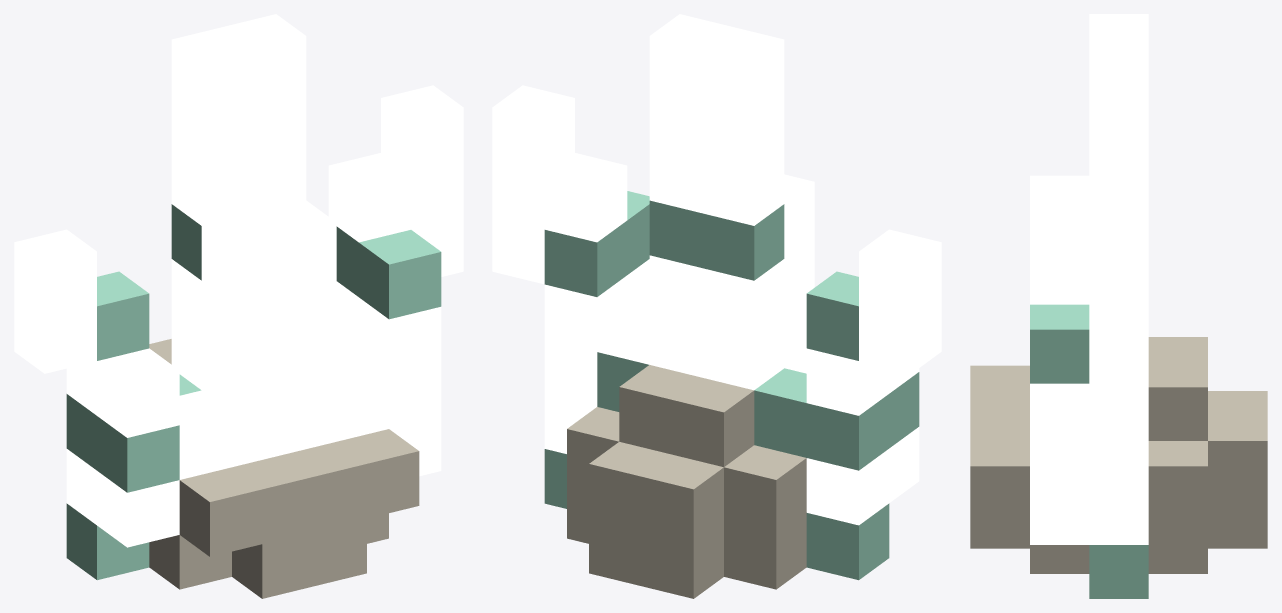
The model's file is saltglass_lod1.glb.
The picture shows the model from 3 angles, left to right: view 1: azimuth 30°, elevation 25°; view 2: azimuth 150°, elevation 25°; view 3: azimuth 270°, elevation 25°; orthographic projection.
Parts seen in each view (by area): view 1: saltglass_lod1; view 2: saltglass_lod1; view 3: saltglass_lod1.
Part boxes in pixels (box(x1,y1,x2,y2)): saltglass_lod1: box(14, 14, 463, 598); saltglass_lod1: box(492, 14, 941, 598); saltglass_lod1: box(970, 14, 1267, 598).
Size of the model in its own units: 0.32 by 0.36 by 0.2.
